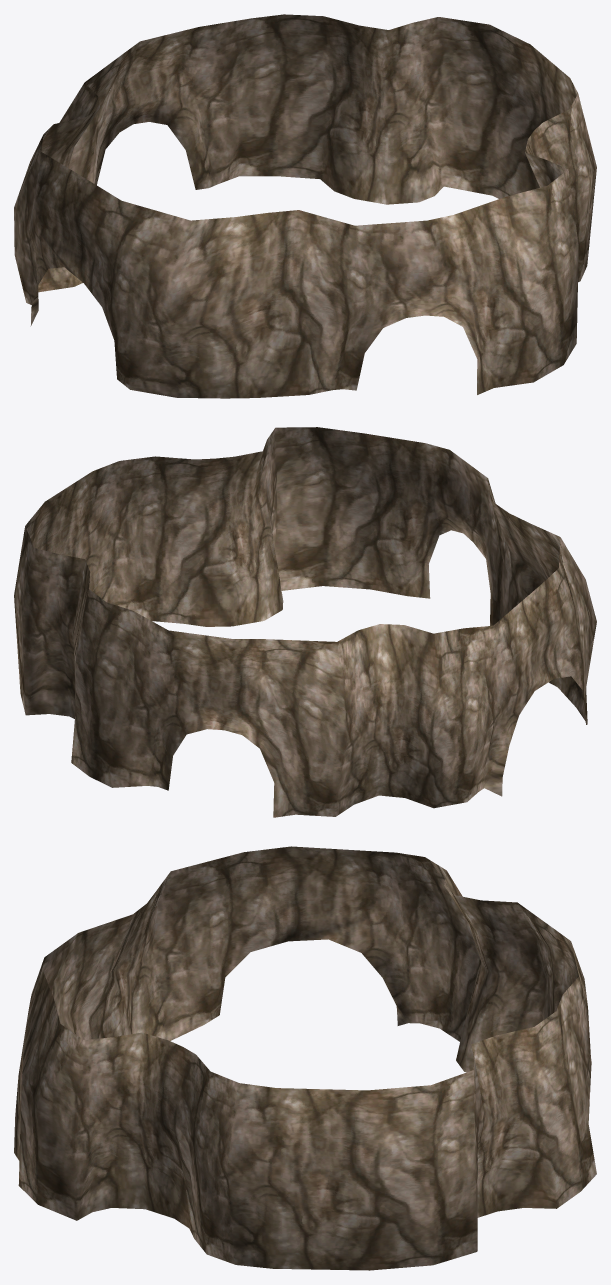
Rendered from EKH_JAIL_PS_JA_SM_CAVE_WALL93837.fbx.
The picture shows the model from 3 angles, top to bottom: view 1: azimuth 30°, elevation 25°; view 2: azimuth 150°, elevation 25°; view 3: azimuth 270°, elevation 25°; orthographic projection. The views are drawn at different scales.
Visible parts, largest first — view 1: EKH_JAIL_PS_JA_SM_CAVE_WALL93837; view 2: EKH_JAIL_PS_JA_SM_CAVE_WALL93837; view 3: EKH_JAIL_PS_JA_SM_CAVE_WALL93837.
Boxes of the visible parts, <box> form: EKH_JAIL_PS_JA_SM_CAVE_WALL93837: <box>14,14,596,398</box>; EKH_JAIL_PS_JA_SM_CAVE_WALL93837: <box>14,427,596,817</box>; EKH_JAIL_PS_JA_SM_CAVE_WALL93837: <box>14,846,596,1270</box>.
Size of the model in its own units: 127732 by 43799 by 125181.
Materials: 1 (1 with a texture image).
